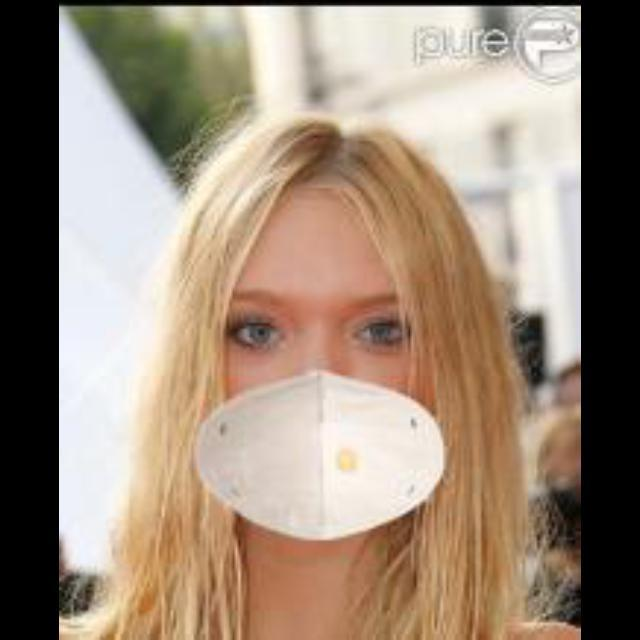suspicion: (163, 129, 574, 636)
